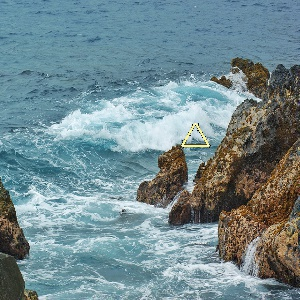triangle: (180, 121, 211, 149)
